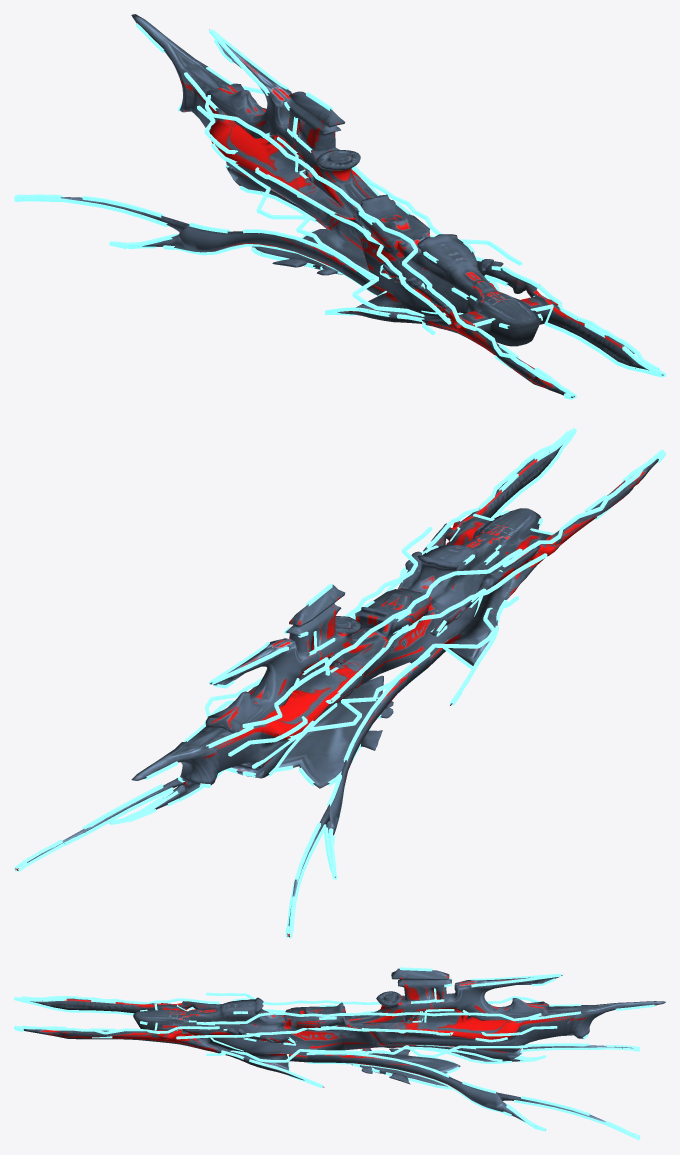
Rendered from cruiser.glb.
3 renders of one model, top to bottom at view 1: azimuth 30°, elevation 25°; view 2: azimuth 150°, elevation 25°; view 3: azimuth 270°, elevation 25°, orthographic. The views are drawn at different scales.
Parts seen in each view (by area): view 1: XZ_Cruiser, XZ_Trim; view 2: XZ_Cruiser, XZ_Trim; view 3: XZ_Cruiser, XZ_Trim.
Boxes of the visible parts, box(x1,y1,x2,y2) form: XZ_Cruiser: box(60, 14, 663, 397); XZ_Trim: box(14, 21, 665, 399); XZ_Cruiser: box(15, 445, 658, 937); XZ_Trim: box(14, 428, 665, 938); XZ_Cruiser: box(23, 968, 665, 1126); XZ_Trim: box(14, 967, 654, 1140).
Size of the model in its own units: 7.24 by 4.75 by 21.91.
2 materials, 1 textured.
